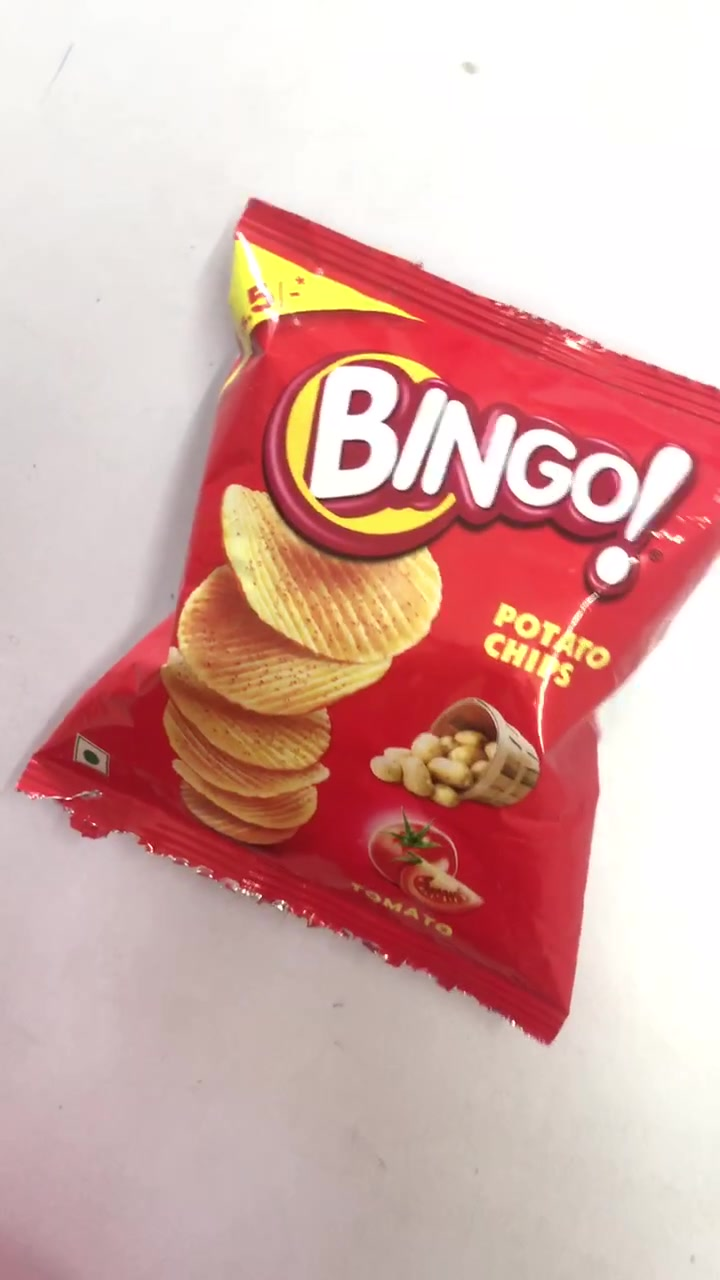Bingo: (21, 198, 720, 1040)
